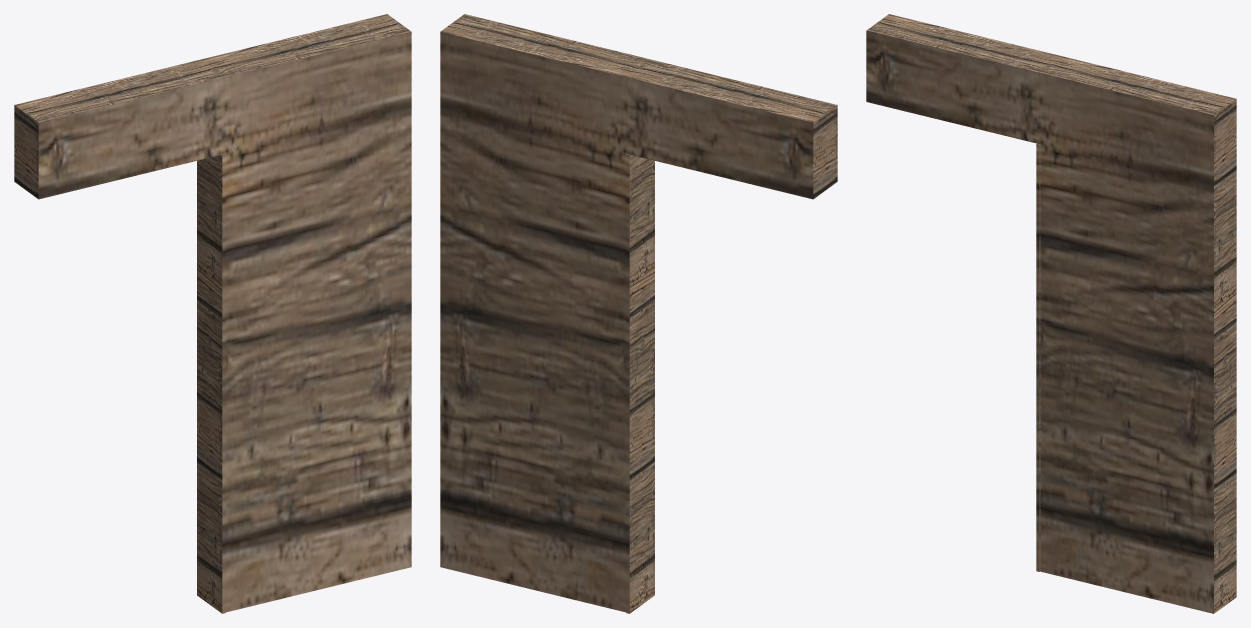
The model's file is wall door slot v7 wood open-side.glb.
The picture shows the model from 3 angles, left to right: view 1: azimuth 30°, elevation 25°; view 2: azimuth 150°, elevation 25°; view 3: azimuth 330°, elevation 25°; orthographic projection. The views are drawn at different scales.
Visible parts, largest first — view 1: mesh_wall_door_slot_v7_wood_open_side, mesh_wall_door_slot_v7_wood_open_side_reveal; view 2: mesh_wall_door_slot_v7_wood_open_side, mesh_wall_door_slot_v7_wood_open_side_reveal; view 3: mesh_wall_door_slot_v7_wood_open_side, mesh_wall_door_slot_v7_wood_open_side_reveal.
Part boxes in pixels (bbox=[...]): mesh_wall_door_slot_v7_wood_open_side: bbox=[14, 14, 411, 612]; mesh_wall_door_slot_v7_wood_open_side_reveal: bbox=[197, 154, 225, 613]; mesh_wall_door_slot_v7_wood_open_side: bbox=[440, 14, 837, 612]; mesh_wall_door_slot_v7_wood_open_side_reveal: bbox=[626, 154, 654, 613]; mesh_wall_door_slot_v7_wood_open_side: bbox=[866, 14, 1236, 613]; mesh_wall_door_slot_v7_wood_open_side_reveal: bbox=[1036, 143, 1040, 571].
Bounding box in the file's own units: 2 × 2.74 × 0.237.
Materials: 1 (1 with a texture image).
